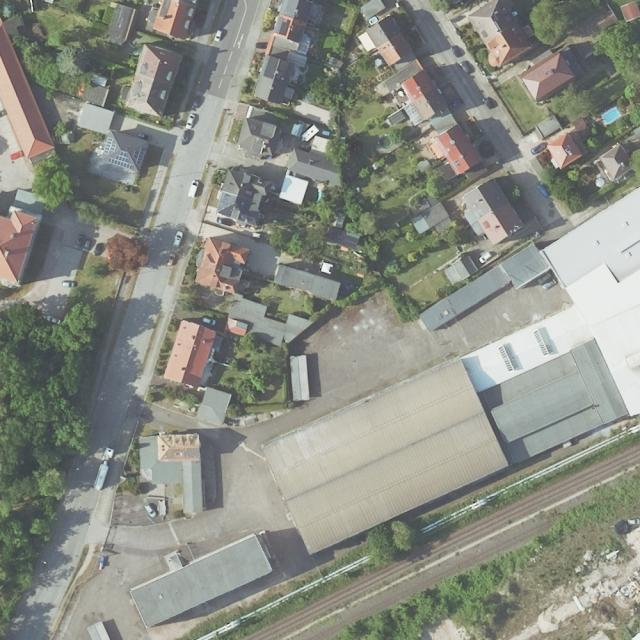PV: (106, 149, 134, 170), (133, 146, 146, 164), (104, 137, 116, 155)
